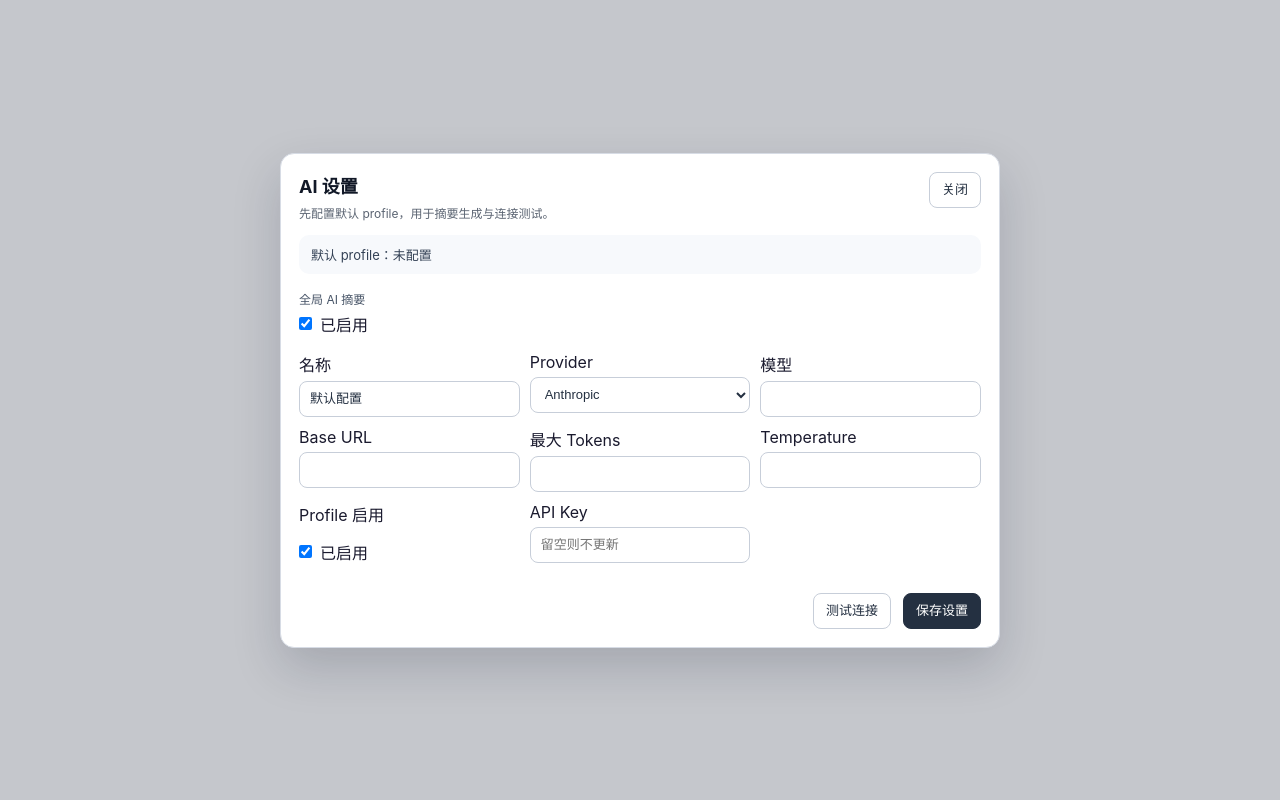
Test: AiSettingsDialog › shows a visible error when testing connection without a default profile
The image size is (1280, 800).
Click the button "测试连接".
click(852, 610)  # box [813, 592, 891, 628]
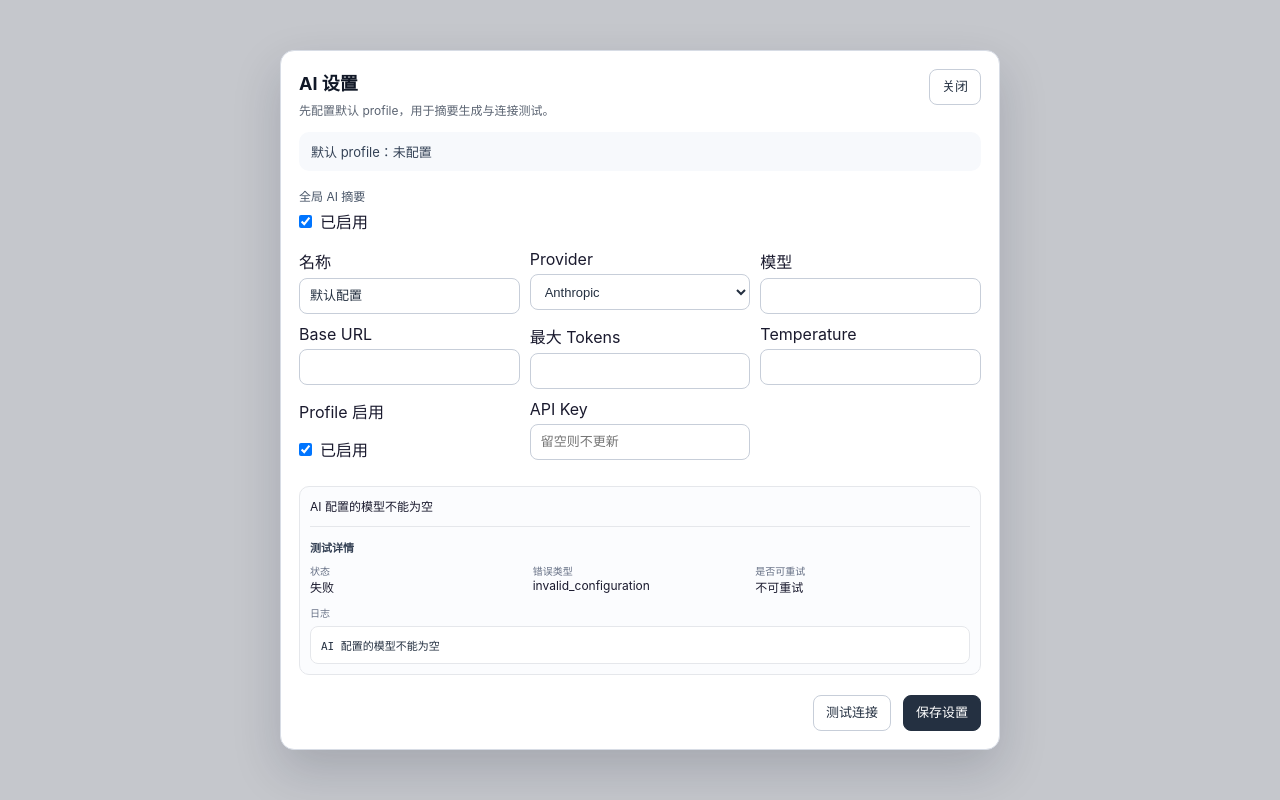
Now the text "AI 配置的模型不能为空" below "日志" is shown, box [321, 640, 440, 653]
